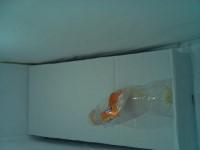bottle: (86, 78, 172, 127)
